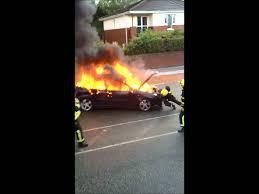fire: (76, 55, 156, 94)
